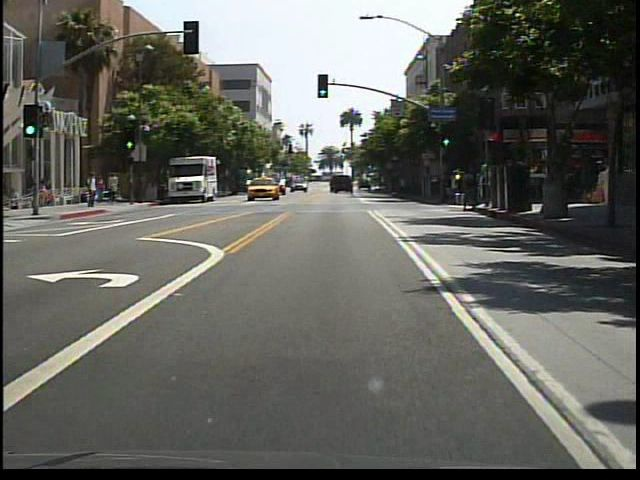person: (106, 170, 122, 206), (87, 172, 101, 210), (38, 179, 54, 210), (97, 175, 109, 205)
